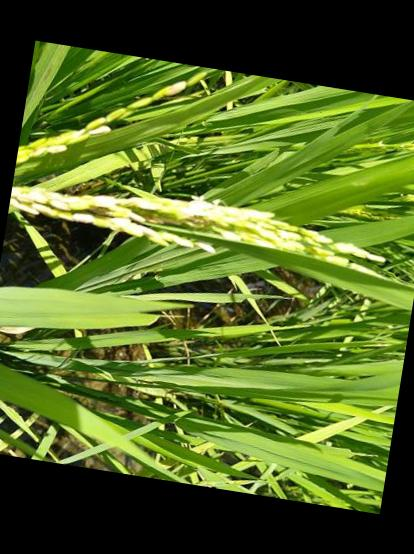Panicle Blight: (142, 213, 214, 227)
